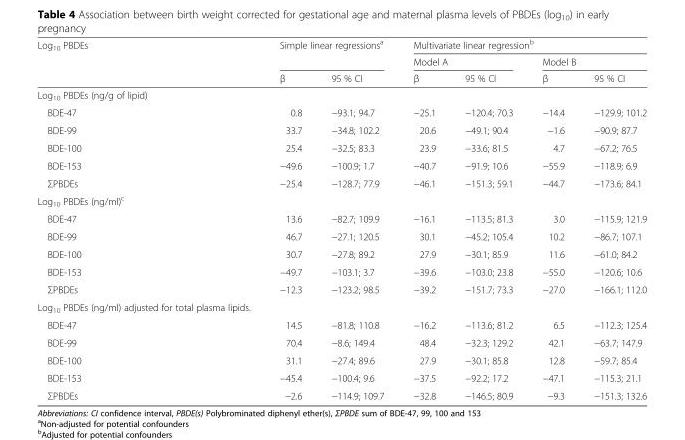table: (36, 37, 646, 401)
table column: (36, 37, 264, 401), (315, 37, 398, 401), (449, 37, 527, 401), (578, 37, 646, 401), (264, 37, 315, 401), (398, 37, 449, 401), (527, 37, 578, 401)
table column header: (36, 37, 646, 86)
table projected row header: (36, 191, 646, 209), (36, 298, 646, 316), (36, 86, 646, 103)
table row: (36, 279, 646, 298), (36, 120, 646, 138), (36, 138, 646, 156), (36, 173, 646, 191), (36, 191, 646, 209), (36, 209, 646, 227), (36, 244, 646, 262), (36, 298, 646, 316), (36, 350, 646, 368), (36, 368, 646, 386), (36, 52, 646, 69), (36, 69, 646, 86), (36, 86, 646, 103), (36, 103, 646, 120), (36, 156, 646, 173), (36, 227, 646, 244), (36, 262, 646, 279), (36, 316, 646, 333), (36, 333, 646, 350), (36, 37, 646, 52), (36, 386, 646, 401)
table spanning cell: (36, 37, 264, 86), (264, 37, 398, 69), (398, 37, 646, 52), (398, 52, 527, 69), (527, 52, 646, 69)
